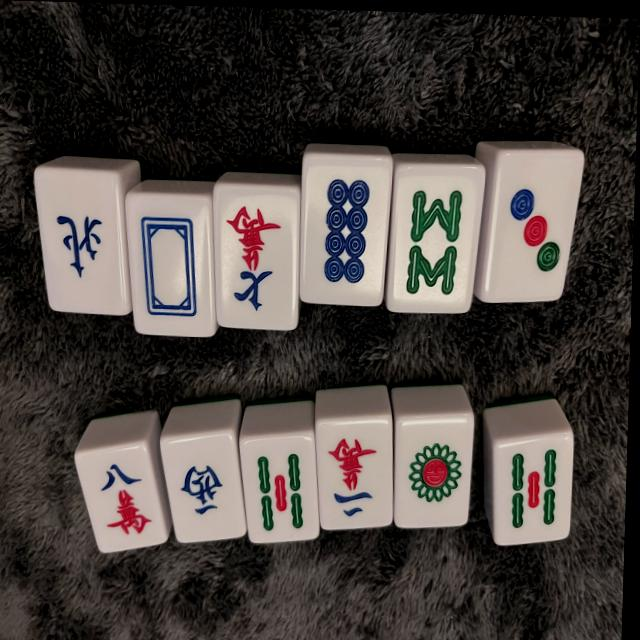bai: (119, 192, 221, 339)
m2: (312, 418, 396, 533)
m7: (206, 182, 300, 329)
m8: (71, 442, 171, 557)
north: (28, 165, 134, 318)
s5: (237, 433, 322, 545), (494, 431, 575, 548)
s8: (386, 160, 483, 310)
t1: (391, 414, 473, 533)
t3: (481, 149, 585, 308)
t8: (301, 155, 395, 309)
west: (156, 430, 250, 549)
